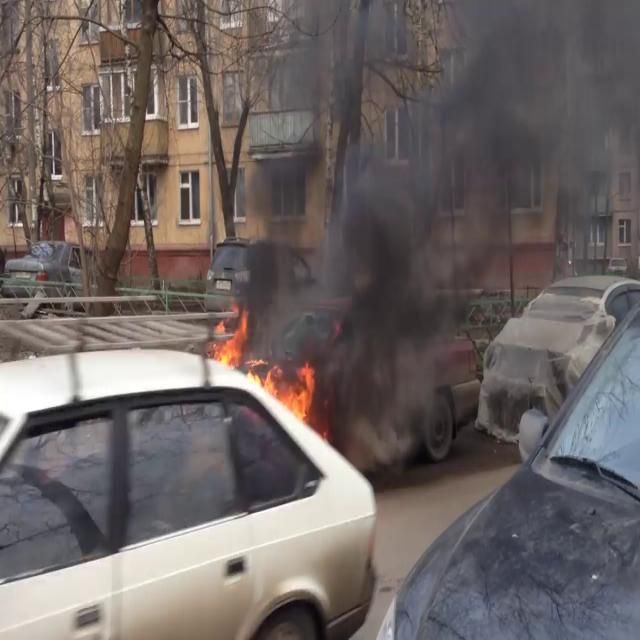Fire: (236, 354, 318, 432)
Smoke: (230, 1, 640, 407), (456, 2, 640, 266)
